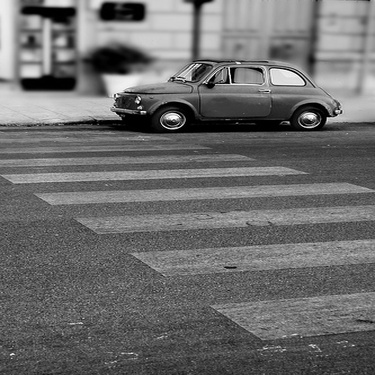car: (108, 45, 349, 145)
